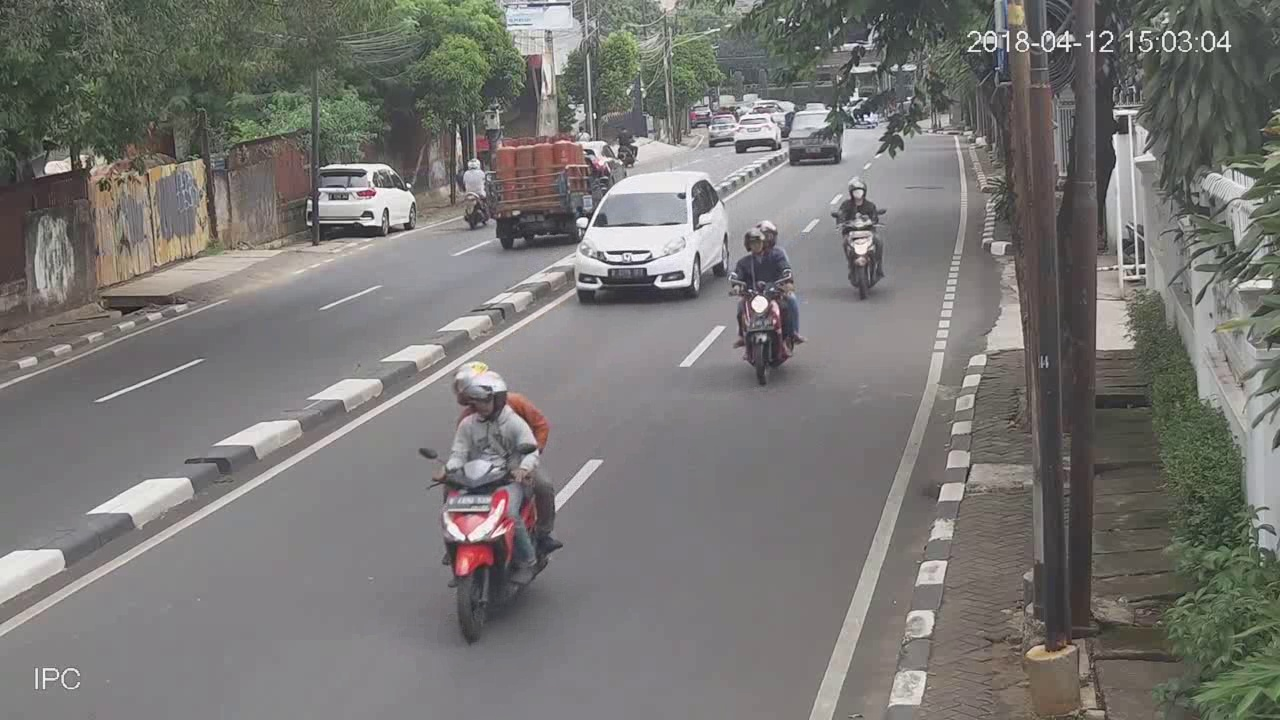car: (574, 170, 734, 300), (308, 155, 423, 241), (788, 105, 846, 169), (735, 113, 781, 153), (711, 112, 734, 145)
motorcycle: (414, 364, 568, 645), (727, 220, 808, 385), (824, 170, 900, 304), (455, 151, 489, 230)
truck: (499, 139, 591, 242)
